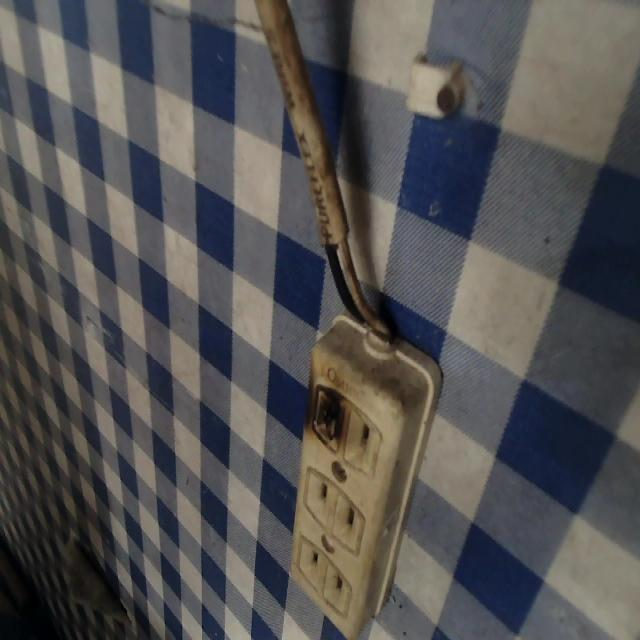-: (301, 375, 350, 453)
